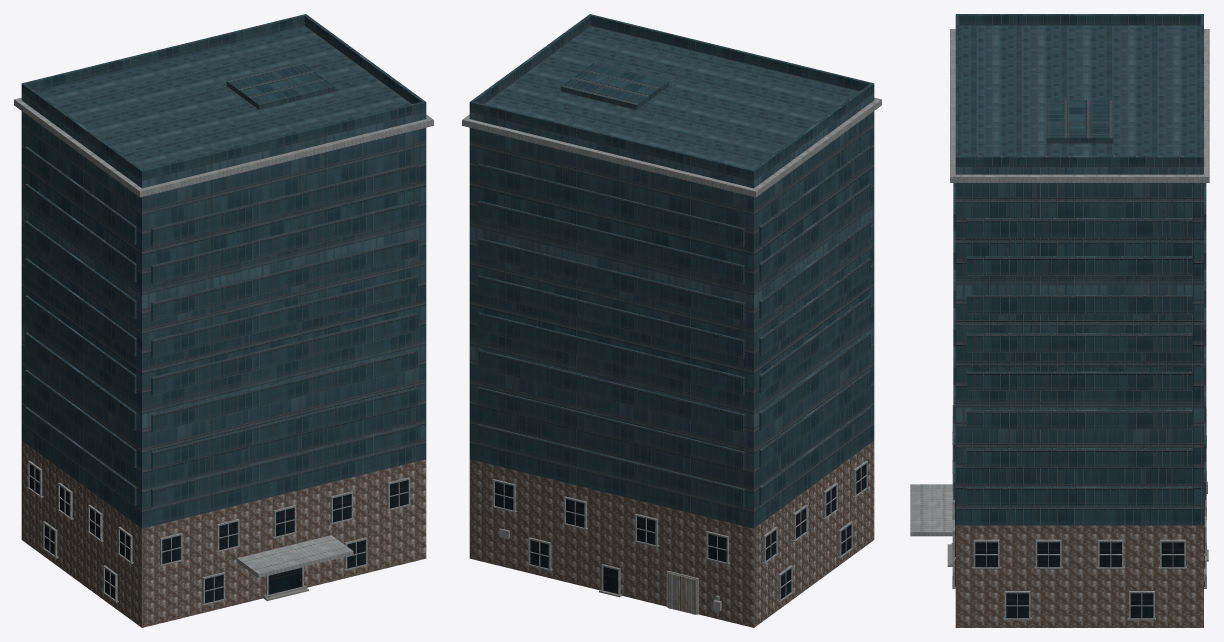
File: milwaukee-junction-lofts_lod0.gltf
3 renders of one model, left to right at view 1: azimuth 30°, elevation 25°; view 2: azimuth 150°, elevation 25°; view 3: azimuth 270°, elevation 25°, orthographic. The views are drawn at different scales.
Parts seen in each view (by area): view 1: milwaukee-junction-lofts_upper, milwaukee-junction-lofts_fen_07-glass-curtain-blue_0, milwaukee-junction-lofts_base, milwaukee-junction-lofts_fen_07-glass-curtain-blue_2_t, milwaukee-junction-lofts_fen_14-steel-panel_1, milwaukee-junction-lofts__cornice, milwaukee-junction-lofts__parapet_front, milwaukee-junction-lofts__parapet_back, milwaukee-junction-lofts__skylights, milwaukee-junction-lofts__steel_canopy, milwaukee-junction-lofts__parapet_left, milwaukee-junction-lofts__parapet_right; view 2: milwaukee-junction-lofts_upper, milwaukee-junction-lofts_fen_07-glass-curtain-blue_0, milwaukee-junction-lofts_base, milwaukee-junction-lofts__cornice, milwaukee-junction-lofts_fen_07-glass-curtain-blue_2_t, milwaukee-junction-lofts_fen_14-steel-panel_1, milwaukee-junction-lofts__parapet_back, milwaukee-junction-lofts__parapet_front, milwaukee-junction-lofts__skylights, milwaukee-junction-lofts__parapet_left, milwaukee-junction-lofts__parapet_right, milwaukee-junction-lofts_fen_21-corrugated-steel_6; view 3: milwaukee-junction-lofts_upper, milwaukee-junction-lofts_fen_07-glass-curtain-blue_0, milwaukee-junction-lofts_base, milwaukee-junction-lofts__cornice, milwaukee-junction-lofts_fen_07-glass-curtain-blue_2_t, milwaukee-junction-lofts__parapet_right, milwaukee-junction-lofts__skylights, milwaukee-junction-lofts_fen_14-steel-panel_1, milwaukee-junction-lofts__parapet_left, milwaukee-junction-lofts__steel_canopy, milwaukee-junction-lofts__parapet_front, milwaukee-junction-lofts__parapet_back.
Part boxes in pixels (x1,y1,x2,y2): milwaukee-junction-lofts_upper: [21, 26, 426, 528]; milwaukee-junction-lofts_fen_07-glass-curtain-blue_0: [25, 146, 417, 507]; milwaukee-junction-lofts_base: [21, 441, 426, 627]; milwaukee-junction-lofts_fen_07-glass-curtain-blue_2_t: [29, 464, 408, 603]; milwaukee-junction-lofts_fen_14-steel-panel_1: [27, 460, 411, 605]; milwaukee-junction-lofts__cornice: [14, 97, 433, 197]; milwaukee-junction-lofts__parapet_front: [140, 101, 426, 181]; milwaukee-junction-lofts__parapet_back: [21, 14, 307, 94]; milwaukee-junction-lofts__skylights: [226, 62, 335, 109]; milwaukee-junction-lofts__steel_canopy: [236, 535, 353, 577]; milwaukee-junction-lofts__parapet_left: [23, 84, 142, 179]; milwaukee-junction-lofts__parapet_right: [304, 15, 424, 103]; milwaukee-junction-lofts_upper: [469, 26, 874, 528]; milwaukee-junction-lofts_fen_07-glass-curtain-blue_0: [478, 146, 870, 507]; milwaukee-junction-lofts_base: [469, 441, 874, 627]; milwaukee-junction-lofts__cornice: [462, 97, 881, 197]; milwaukee-junction-lofts_fen_07-glass-curtain-blue_2_t: [495, 464, 866, 599]; milwaukee-junction-lofts_fen_14-steel-panel_1: [491, 460, 868, 614]; milwaukee-junction-lofts__parapet_back: [469, 101, 755, 181]; milwaukee-junction-lofts__parapet_front: [588, 14, 874, 94]; milwaukee-junction-lofts__skylights: [560, 62, 669, 109]; milwaukee-junction-lofts__parapet_left: [753, 84, 872, 179]; milwaukee-junction-lofts__parapet_right: [471, 15, 591, 103]; milwaukee-junction-lofts_fen_21-corrugated-steel_6: [667, 573, 696, 614]; milwaukee-junction-lofts_upper: [955, 25, 1203, 525]; milwaukee-junction-lofts_fen_07-glass-curtain-blue_0: [953, 183, 1206, 505]; milwaukee-junction-lofts_base: [955, 525, 1203, 627]; milwaukee-junction-lofts__cornice: [950, 29, 1209, 182]; milwaukee-junction-lofts_fen_07-glass-curtain-blue_2_t: [955, 500, 1204, 618]; milwaukee-junction-lofts__parapet_right: [959, 155, 1200, 167]; milwaukee-junction-lofts__skylights: [1046, 100, 1113, 143]; milwaukee-junction-lofts_fen_14-steel-panel_1: [952, 405, 1207, 620]; milwaukee-junction-lofts__parapet_left: [959, 14, 1200, 25]; milwaukee-junction-lofts__steel_canopy: [910, 484, 952, 536]; milwaukee-junction-lofts__parapet_front: [955, 14, 958, 167]; milwaukee-junction-lofts__parapet_back: [1200, 14, 1203, 167].
Size of the model in its own units: 31 by 46 by 26.5.
